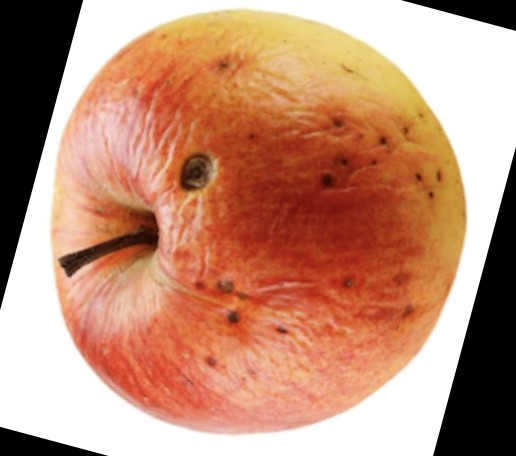rotten_apple: (49, 8, 466, 433)
